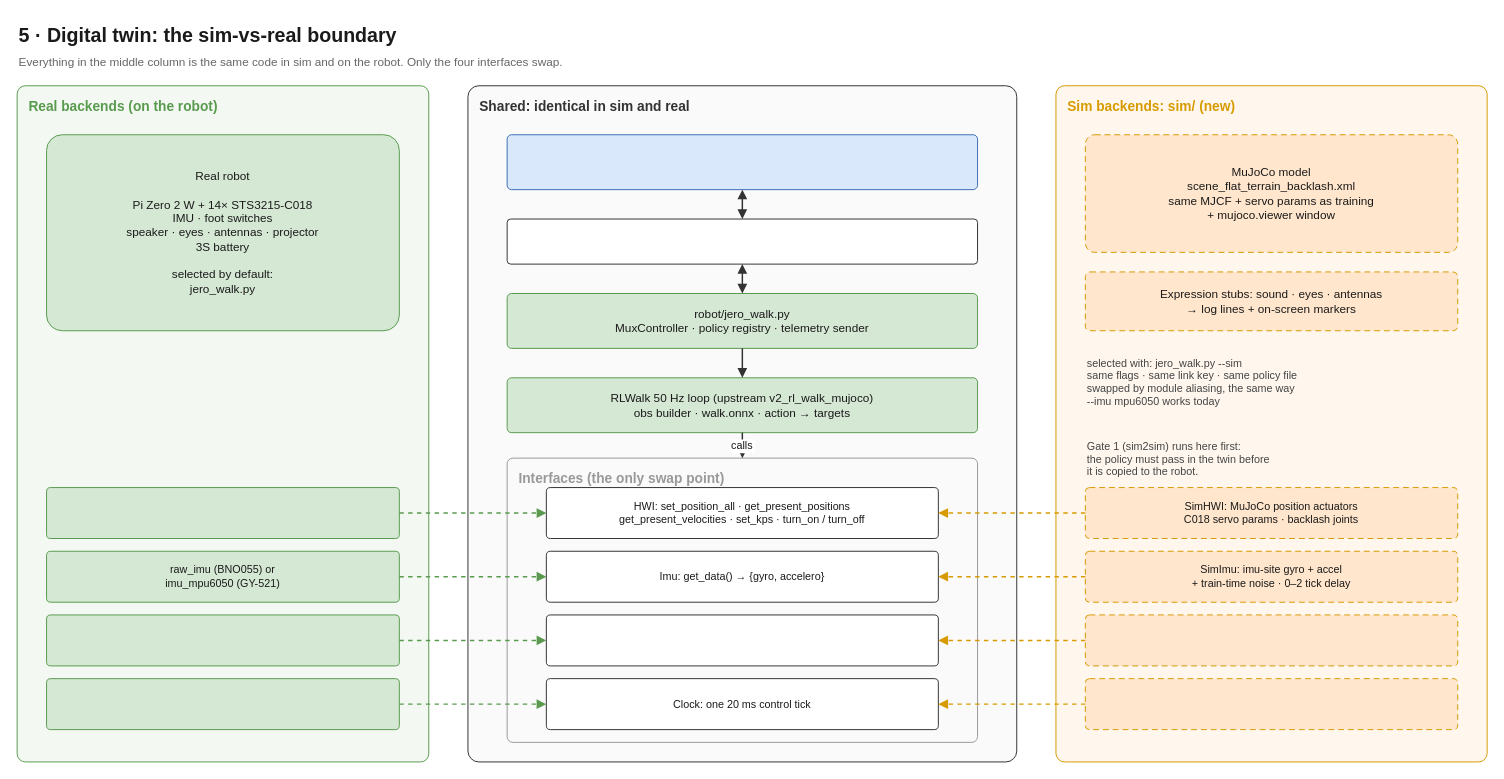
Some shapes in this 1504 by 779 pixel diagram are drawn without their labels. Here are the shapes that lost their labels. From the top down, the centre of each, then its label:
At [742,162]: "Brain stack: brain/live.py RB3 Gen 2 at the event · laptop or RB3 in sim".
At [742,241]: "Jero link · UDP 5005 commands · UDP 5006 telemetry".
At [222,513]: "RustypotPositionHWI /dev/ttyACM0 · 1 Mbps · 14 servos".
At [222,640]: "FeetContacts GPIO 22 / 27 switches".
At [741,640]: "FeetContacts: get() → [left, right]".
At [1271,640]: "SimFeet: foot geom ↔ floor contact".
At [222,704]: "wall clock time.sleep to hold 50 Hz".
At [1271,704]: "SimClock: 10 × 2 ms physics steps/tick real-time or faster".
